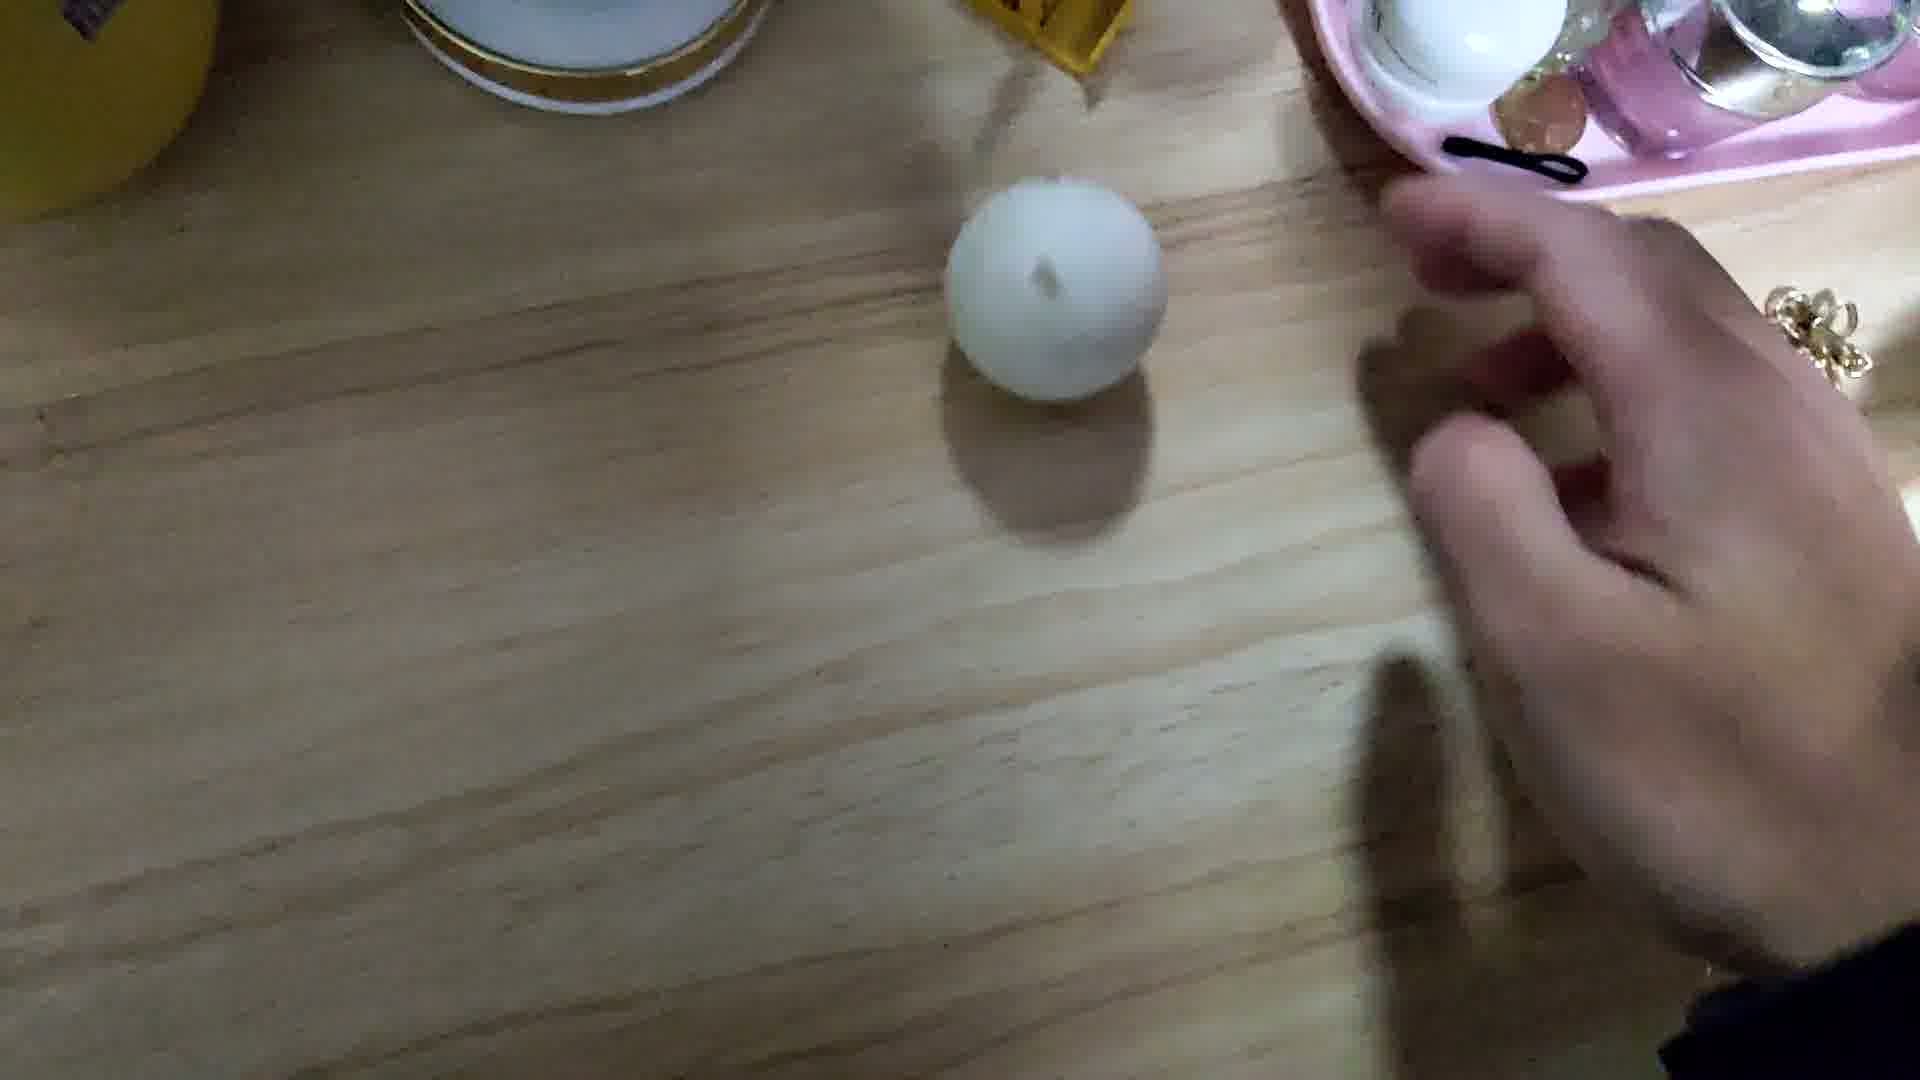Ball: (943, 177, 1178, 407)
